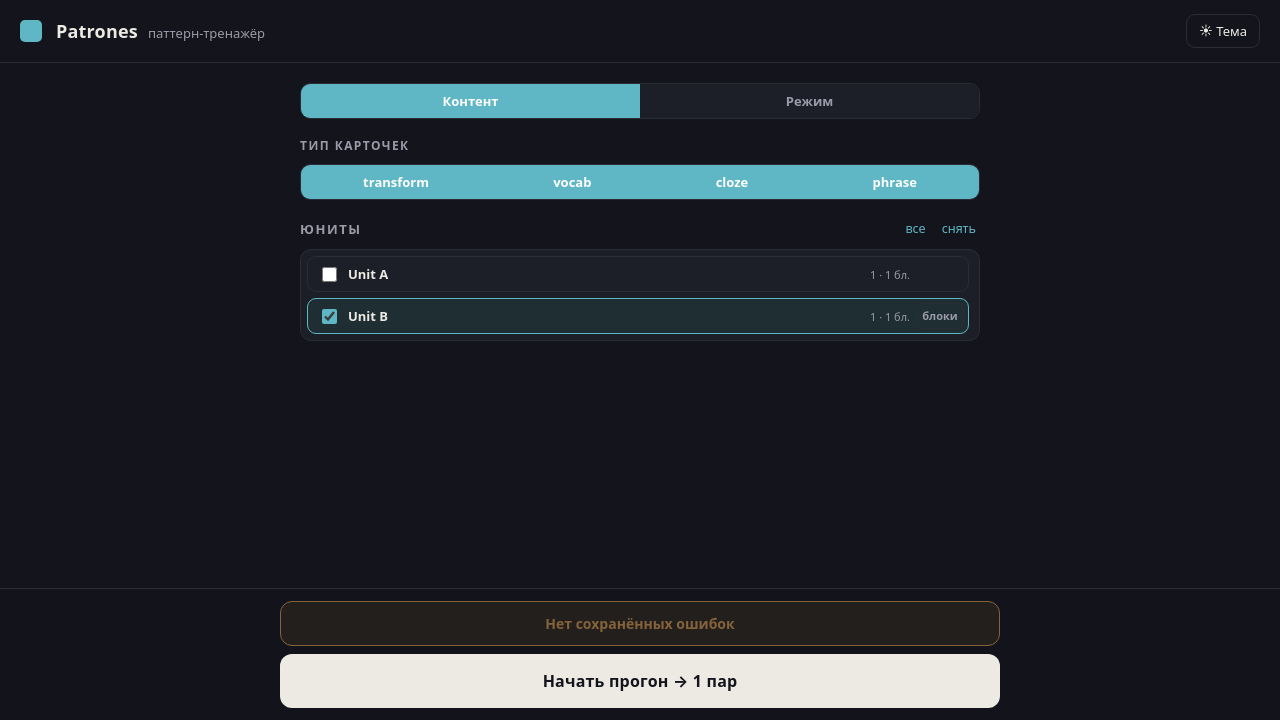
Test: App › shows six order modes
Click the tab "Режим" at [810, 101], box [640,84,979,118]
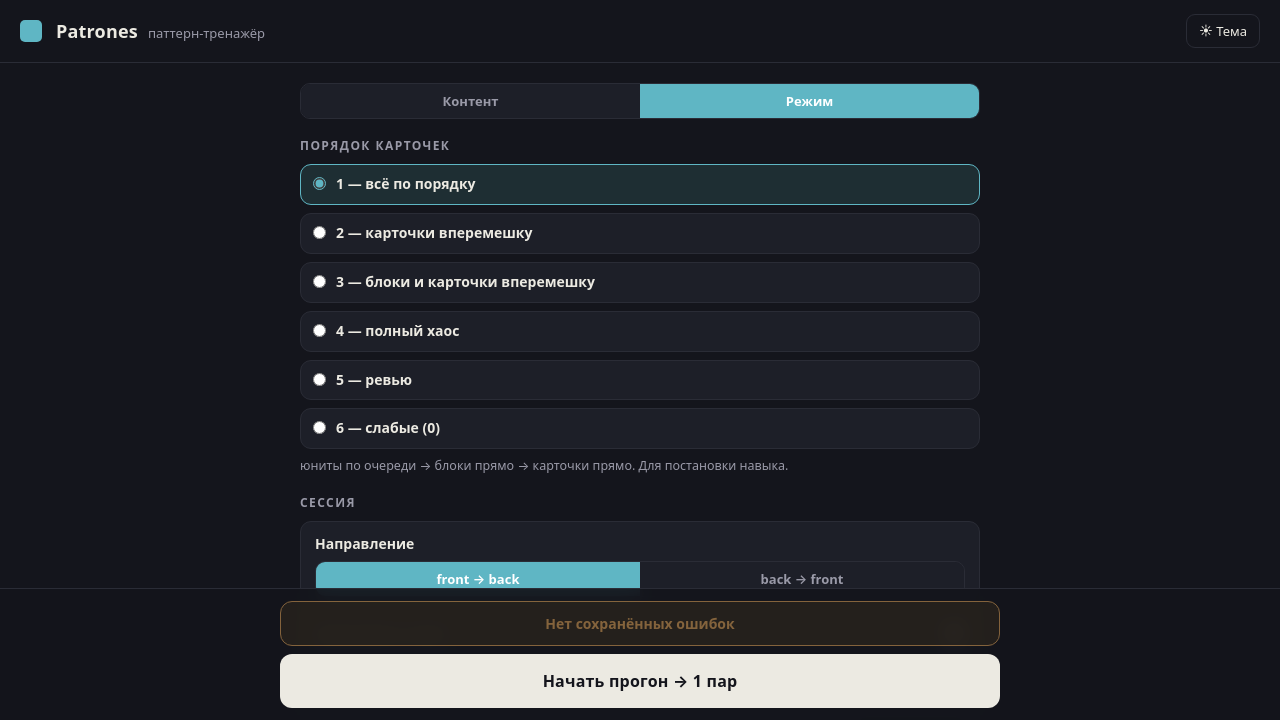
Now the number of radio buttons is 6, box [313,177,326,190]; [313,226,326,239]; [313,275,326,288]; [313,324,326,337]; [313,373,326,386]; [313,422,326,434]
Now the text "6 — слабые" is shown, box [336,418,440,438]
